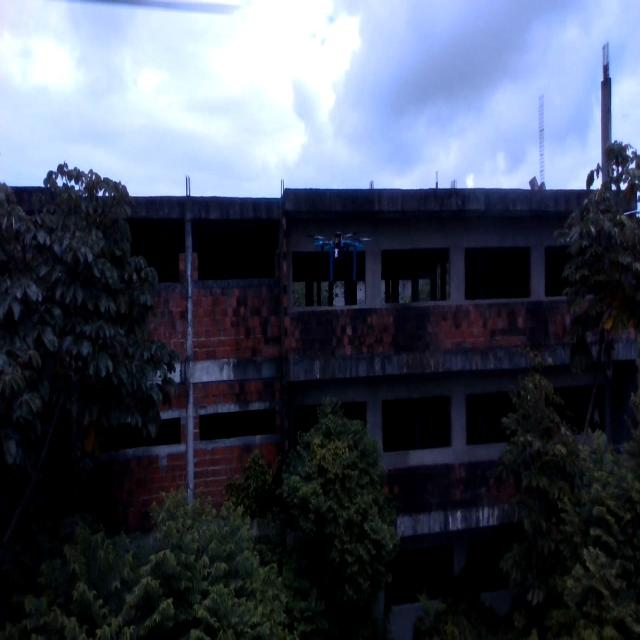-uav-: (304, 209, 383, 293)
